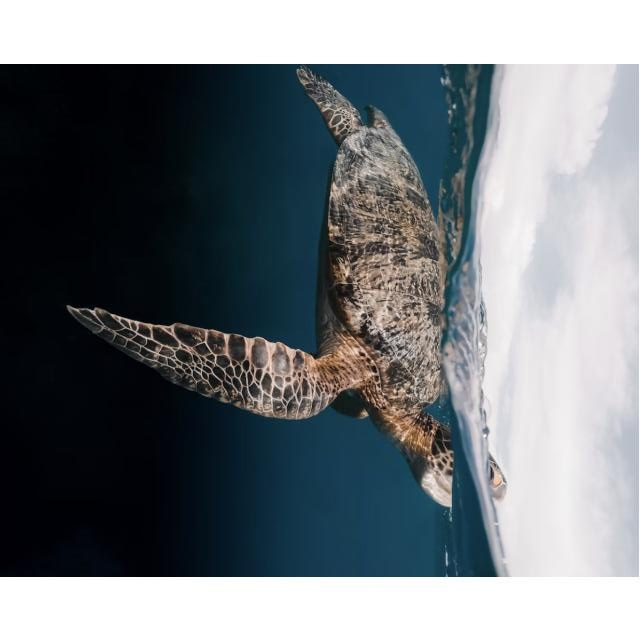turtle: (59, 69, 510, 513)
